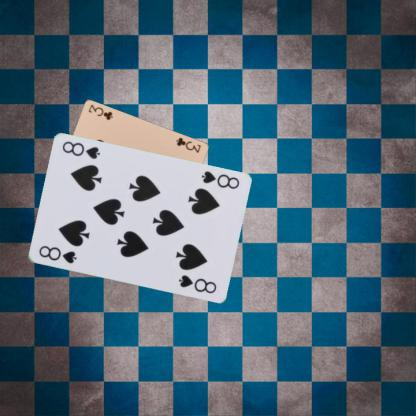3c: (173, 135, 202, 154)
8s: (198, 168, 240, 191), (36, 243, 77, 265)
